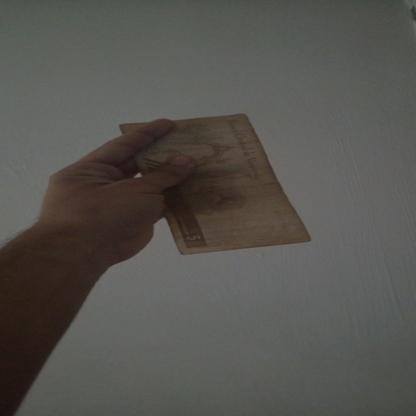five-back-vef: (117, 112, 310, 256)
